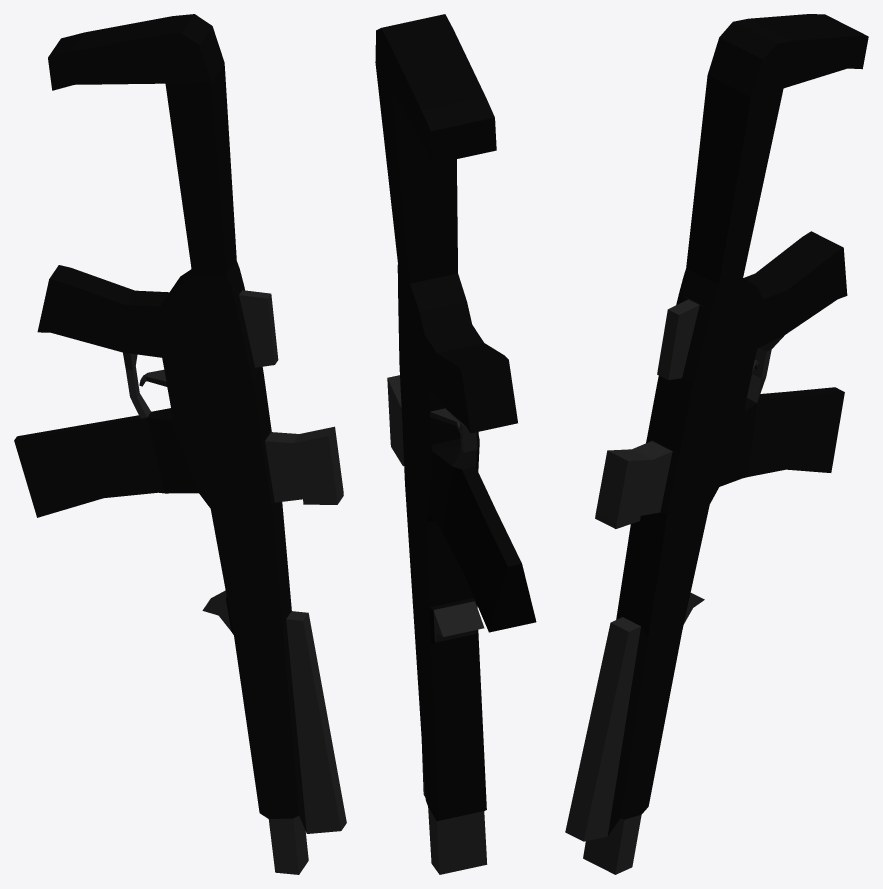
3 views of the same model, side by side, from view 1: azimuth 30°, elevation 25°; view 2: azimuth 150°, elevation 25°; view 3: azimuth 270°, elevation 25° (orthographic). The views are drawn at different scales.
Visible parts, largest first — view 1: AR; view 2: AR; view 3: AR.
Part boxes in pixels (x1=…): AR: x1=14, y1=14, x2=346, y2=874; AR: x1=375, y1=14, x2=536, y2=874; AR: x1=565, y1=14, x2=868, y2=874.
Size of the model in its own units: 46.84 by 162 by 54.31.
